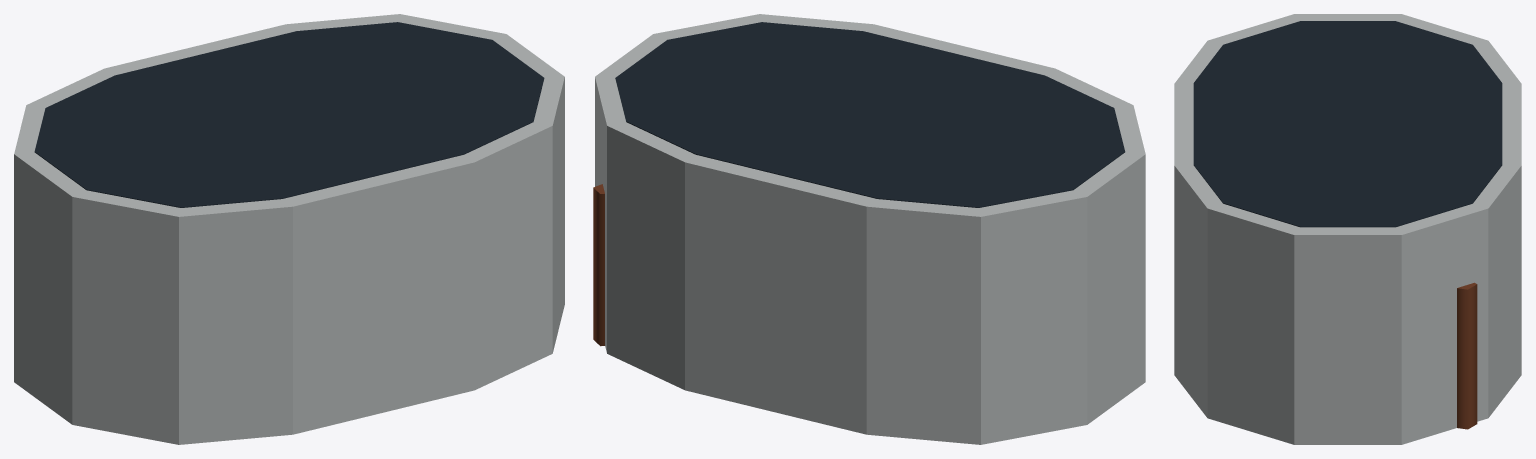
Rendered from water_trough.glb.
3 views of the same model, side by side, from view 1: azimuth 30°, elevation 25°; view 2: azimuth 150°, elevation 25°; view 3: azimuth 270°, elevation 25° (orthographic). The views are drawn at different scales.
Visible parts, largest first — view 1: water_trough; view 2: water_trough; view 3: water_trough.
Boxes of the visible parts, x1,y1,x2,y2 form: water_trough: (14,14,564,444); water_trough: (593,14,1145,444); water_trough: (1174,14,1521,444).
Bounding box in the file's own units: 1.36 × 0.602 × 0.9.
Materials: 1 (1 with a texture image).
